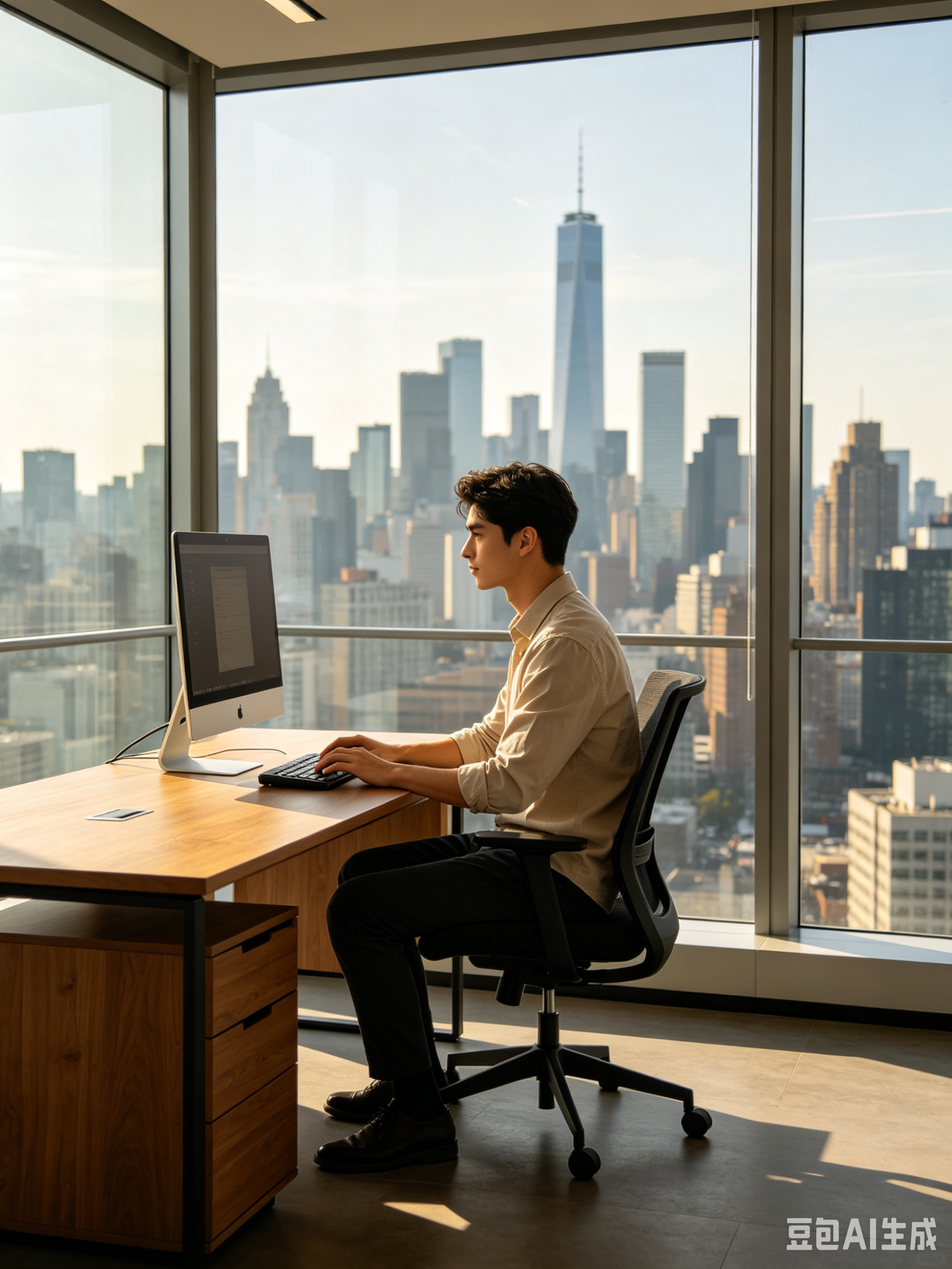sitting_good: (302, 482, 638, 1140)
